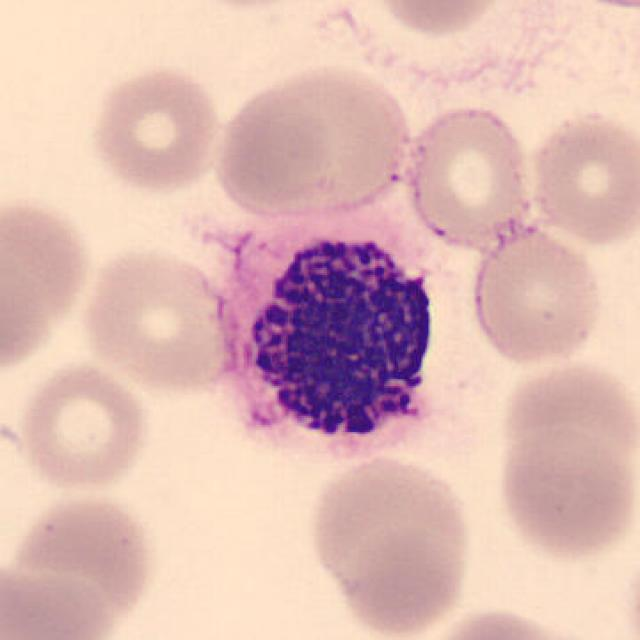Basophil: (197, 208, 450, 474)
RBC: (302, 448, 478, 638), (213, 60, 418, 220), (491, 374, 638, 564), (76, 241, 236, 395), (4, 492, 158, 638), (466, 220, 606, 370), (400, 101, 537, 252), (12, 358, 153, 495), (85, 61, 226, 196), (0, 187, 94, 382), (524, 107, 638, 247), (0, 562, 116, 640), (402, 603, 608, 640), (370, 0, 516, 39), (180, 0, 327, 14), (561, 0, 638, 12)
